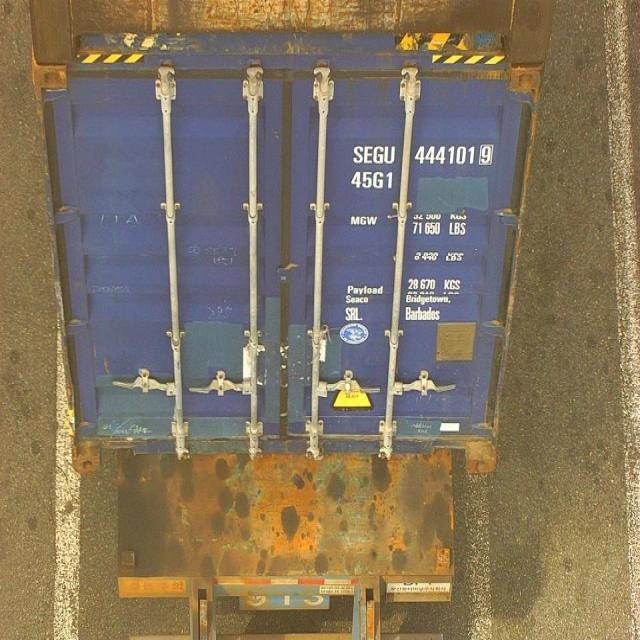ISO: (352, 168, 394, 192)
container_number: (352, 144, 495, 167)
